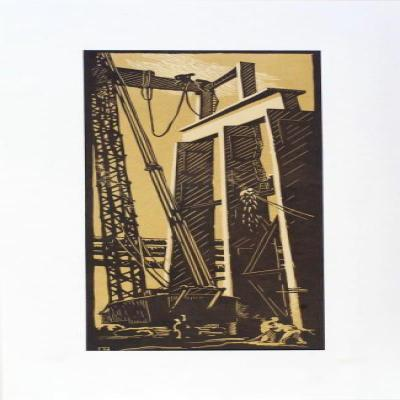graphics: (84, 51, 326, 352)
